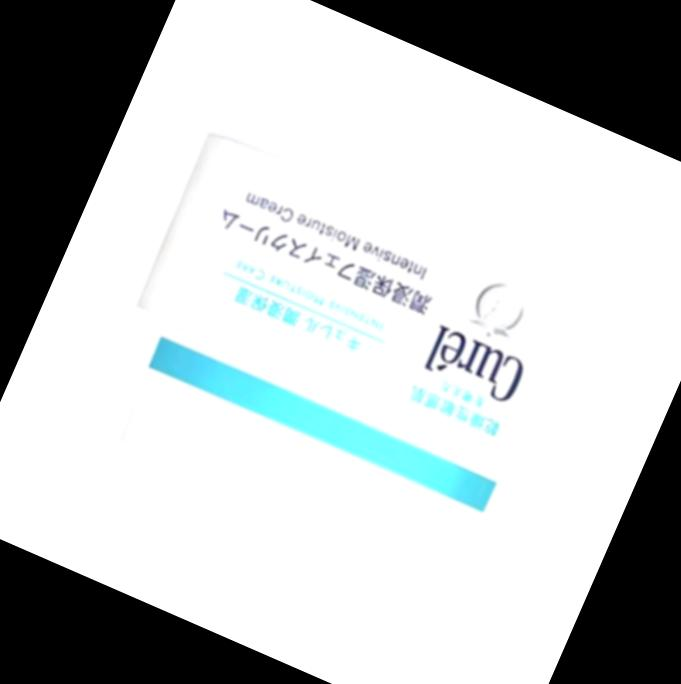cosmetic: (76, 128, 622, 609)
